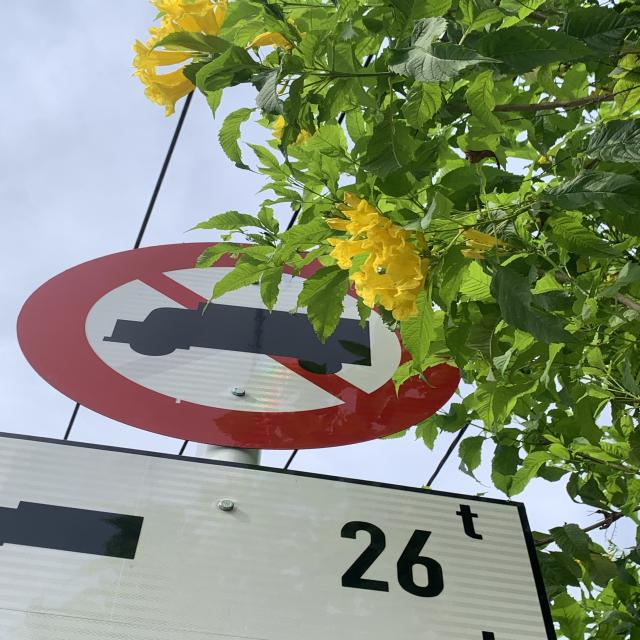Cam_Xe_Tai: (11, 236, 453, 449)
